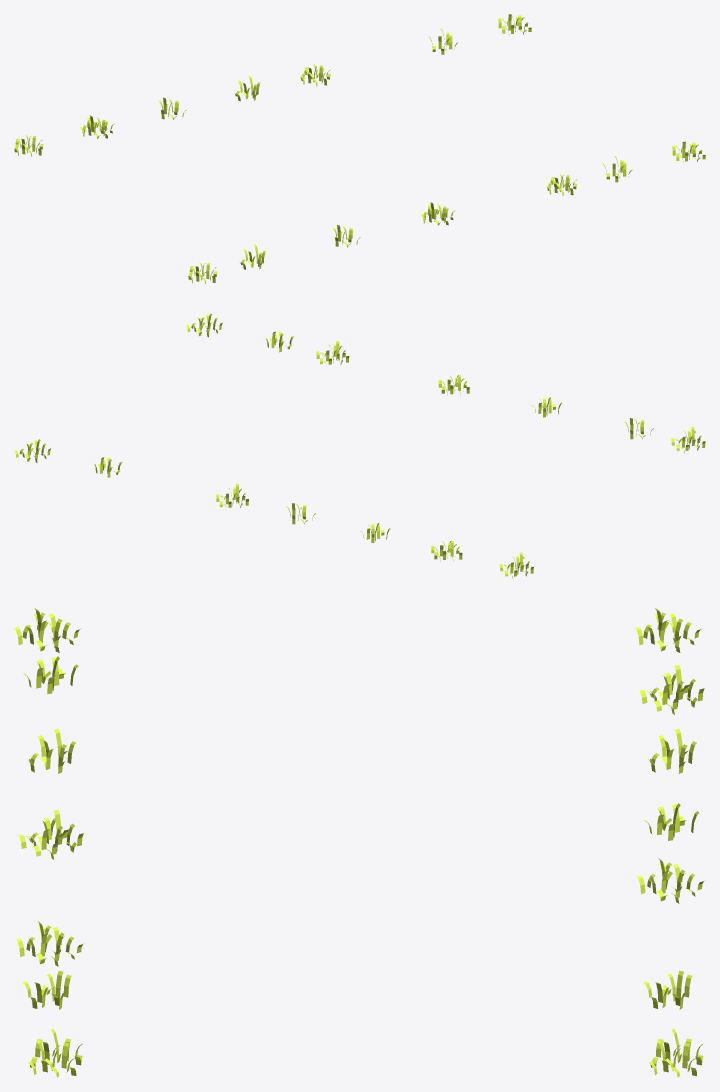
Rendered from Tile_Road_Grass.fbx.
3 views of the same model, one above another, from view 1: azimuth 30°, elevation 25°; view 2: azimuth 150°, elevation 25°; view 3: azimuth 270°, elevation 25° (orthographic). The views are drawn at different scales.
Parts seen in each view (by area): view 1: grass_large.004; view 2: grass_large.004; view 3: grass_large.004.
Boxes of the visible parts, x1,y1,x2,y2 form: grass_large.004: (14, 14, 705, 283); grass_large.004: (14, 313, 705, 578); grass_large.004: (14, 608, 705, 1077).
Size of the model in its own units: 239 by 7.88 by 155.
